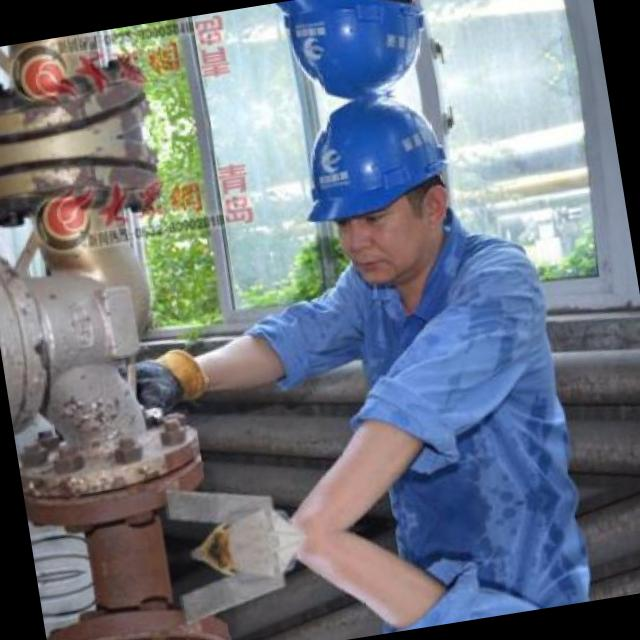helmet: (277, 85, 485, 305), (259, 0, 455, 112)
